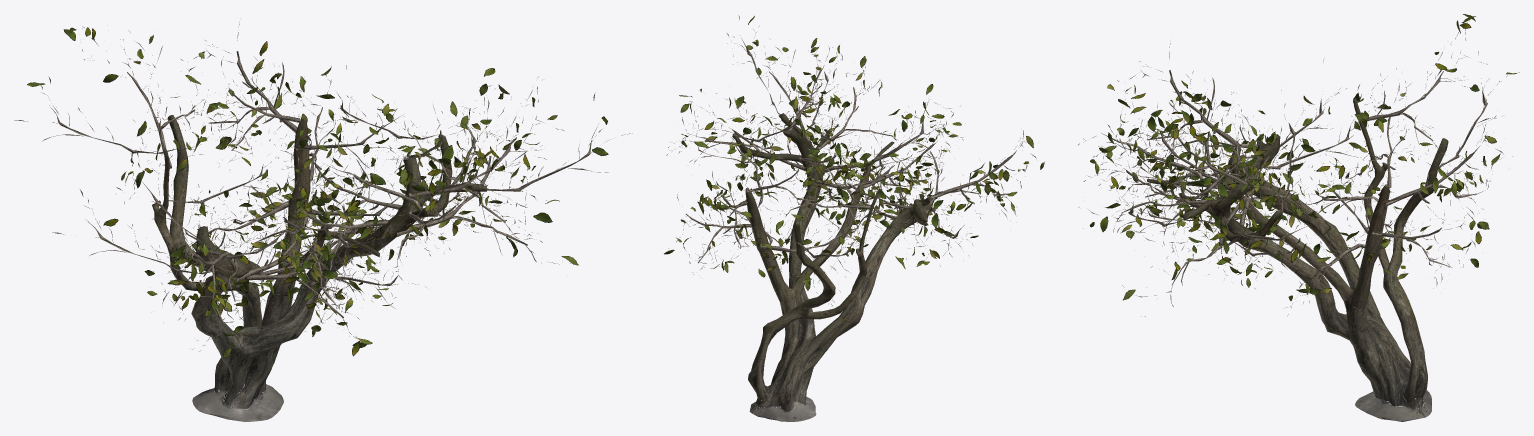
File: IslandTree.glb
3 renders of one model, left to right at view 1: azimuth 30°, elevation 25°; view 2: azimuth 150°, elevation 25°; view 3: azimuth 270°, elevation 25°, orthographic. The views are drawn at different scales.
Parts seen in each view (by area): view 1: IslandTree; view 2: IslandTree; view 3: IslandTree.
Part boxes in pixels (x1,y1,x2,y2): IslandTree: (14, 22, 632, 421); IslandTree: (664, 15, 1044, 421); IslandTree: (1078, 14, 1519, 421).
Size of the model in its own units: 4.2 by 3.34 by 3.99.
Materials: 3 (3 with a texture image).
